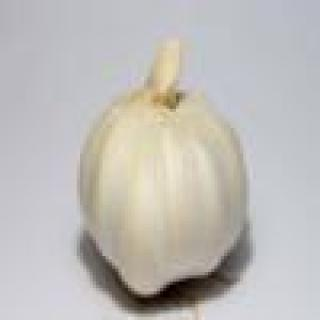Bawang Putih: (69, 30, 264, 302)
